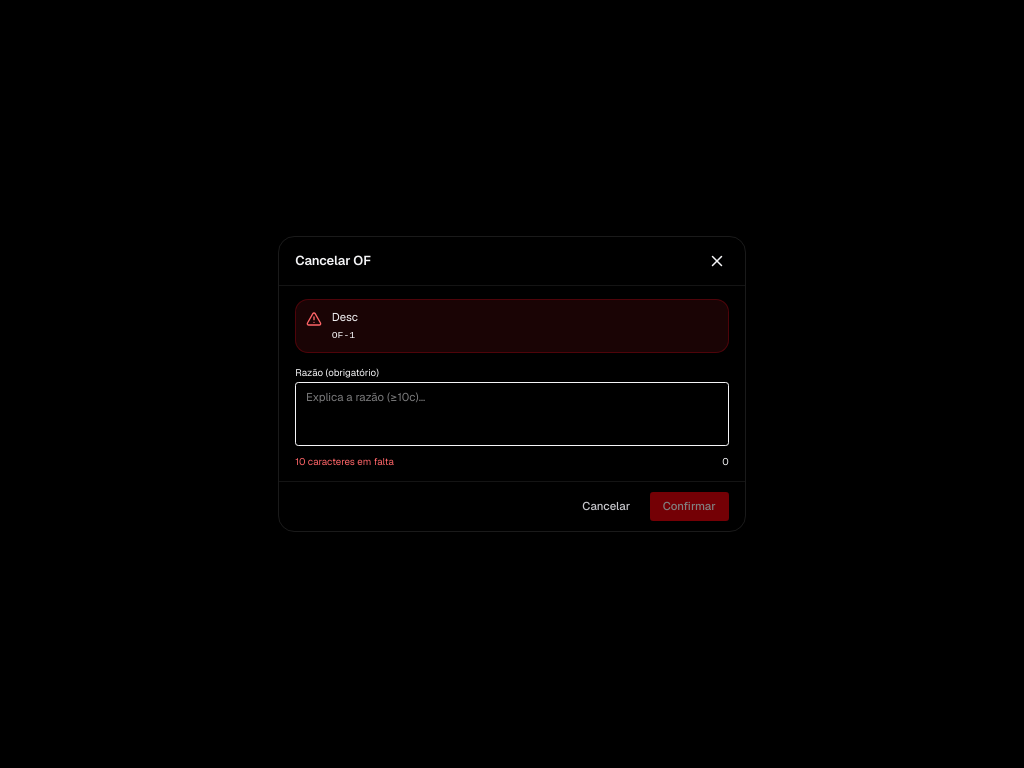
Test: ConfirmDestructiveModal › botão Confirmar activo com razão ≥10c
This screenshot has width=1024, height=768.
Step 1. Type "razão suficiente para confirmar" into the text box with placeholder "Explica a razão (≥10c)…" → (512, 414), box x1=295 y1=382 x2=729 y2=446
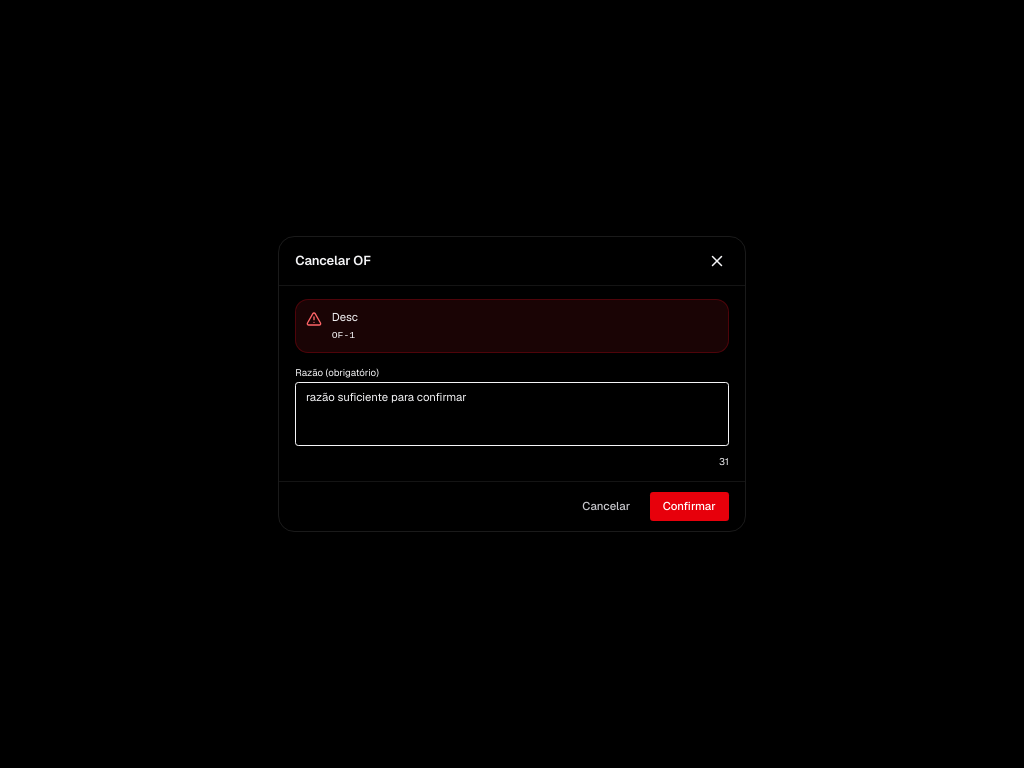
Expected: the button "Confirmar" is enabled, x1=650 y1=492 x2=729 y2=521
